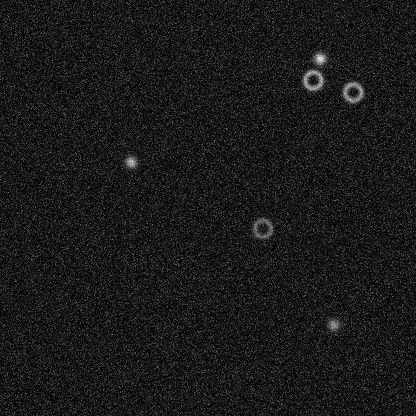Ring: (300, 67, 324, 91), (250, 216, 274, 240), (340, 80, 364, 104)
Spot: (325, 316, 341, 332), (311, 50, 327, 66), (122, 154, 138, 170)
